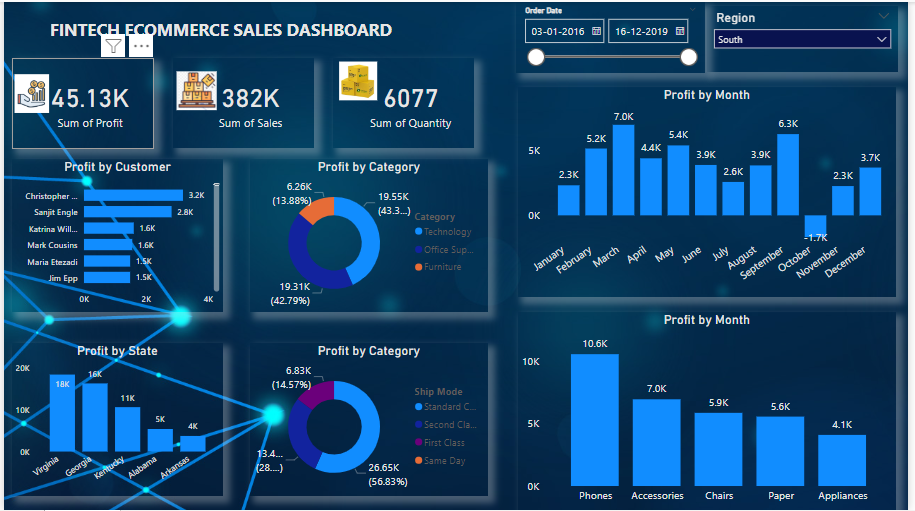

Layout of this report page (visuals, bound fields, positions):
{"tool":"powerbi","page":{"name":"Page 1","canvas":[1280,720],"ordinal":0},"visuals":[{"type":"textbox","box":[39.7,17,535.7,49.6],"z":0},{"type":"columnChart","title":" Profit by Month","fields":{"Category":["Orders.Order Date.Variation.Date Hierarchy.Year","Orders.Order Date.Variation.Date Hierarchy.Quarter","Orders.Order Date.Variation.Date Hierarchy.Month","Orders.Order Date.Variation.Date Hierarchy.Day"],"Y":["Sum(Orders.Profit)"]},"box":[728.5,120.5,535.7,297.6],"z":1000},{"type":"columnChart","title":" Profit by Month","fields":{"Y":["Sum(Orders.Profit)"],"Category":["Orders.Sub-Category"]},"box":[728.5,439.4,535.7,280.6],"z":2000},{"type":"card","fields":{"Values":["Sum(Orders.Profit)"]},"box":[11.6,80,201.3,127.7],"z":3000},{"type":"card","fields":{"Values":["Sum(Orders.Sales)"]},"box":[240,80,200,127.7],"z":4000},{"type":"card","fields":{"Values":["Sum(Orders.Quantity)"]},"box":[465.8,80,200,127.7],"z":5000},{"type":"slicer","fields":{"Values":["Orders.Order Date"]},"box":[725.5,0,268,99.8],"z":6000},{"type":"slicer","fields":{"Values":["Orders.Region"]},"box":[996.3,5.7,270.8,94.1],"z":7000},{"type":"donutChart","title":"Profit by Category","fields":{"Y":["Sum(Orders.Profit)"],"Category":["Orders.Category"]},"box":[348.7,222.5,337.3,216.9],"z":8000},{"type":"donutChart","title":"Profit by Category","fields":{"Y":["Sum(Orders.Profit)"],"Category":["Orders.Ship Mode"]},"box":[348.7,483.3,337.3,216.9],"z":9000},{"type":"clusteredBarChart","title":" Profit by Customer","fields":{"Y":["Sum(Orders.Profit)"],"Category":["Orders.Customer Name"]},"box":[11.3,222.5,299.1,216.9],"z":10000},{"type":"columnChart","title":"Profit by State","fields":{"Y":["Sum(Orders.Profit)"],"Category":["Orders.State"]},"box":[11.3,483.3,299.1,216.9],"z":11000},{"type":"image","box":[10.3,89,59.4,81.3],"z":12000},{"type":"image","box":[240,89,67.1,72.3],"z":13000},{"type":"image","box":[455.5,80,92.9,64.5],"z":14000}]}

Visuals, with their boxes in screenshot pixels (x1, y1, x2, y2), scaled from the page's 1280x720 canvas onto the 915x511 screenshot:
textbox: [28,12,411,47]
" Profit by Month" columnChart: [521,86,904,297]
" Profit by Month" columnChart: [521,312,904,510]
card - Sum(Orders.Profit): [8,57,152,147]
card - Sum(Orders.Sales): [172,57,315,147]
card - Sum(Orders.Quantity): [333,57,476,147]
slicer - Orders.Order Date: [519,0,710,71]
slicer - Orders.Region: [712,4,906,71]
"Profit by Category" donutChart: [249,158,490,312]
"Profit by Category" donutChart: [249,343,490,497]
" Profit by Customer" clusteredBarChart: [8,158,222,312]
"Profit by State" columnChart: [8,343,222,497]
image: [7,63,50,121]
image: [172,63,220,114]
image: [326,57,392,103]
